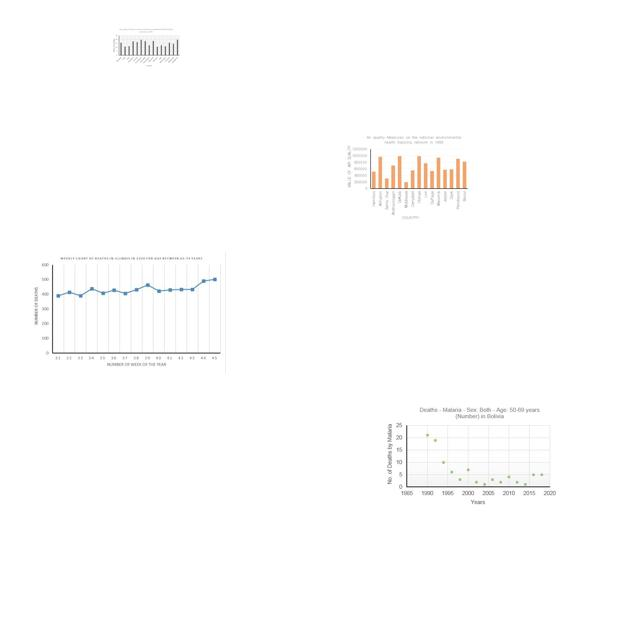Graph: (29, 252, 226, 373), (384, 404, 558, 510), (344, 133, 470, 222), (112, 27, 181, 68)
